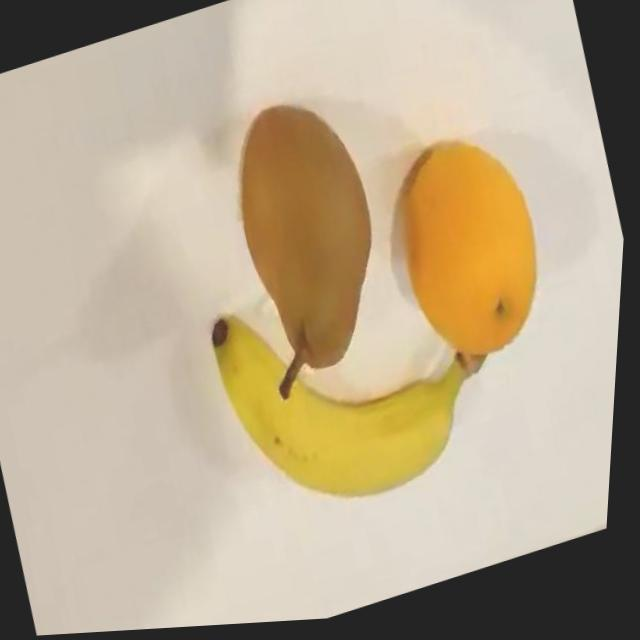Banana: (199, 240, 523, 541)
Orange: (374, 120, 570, 381)
